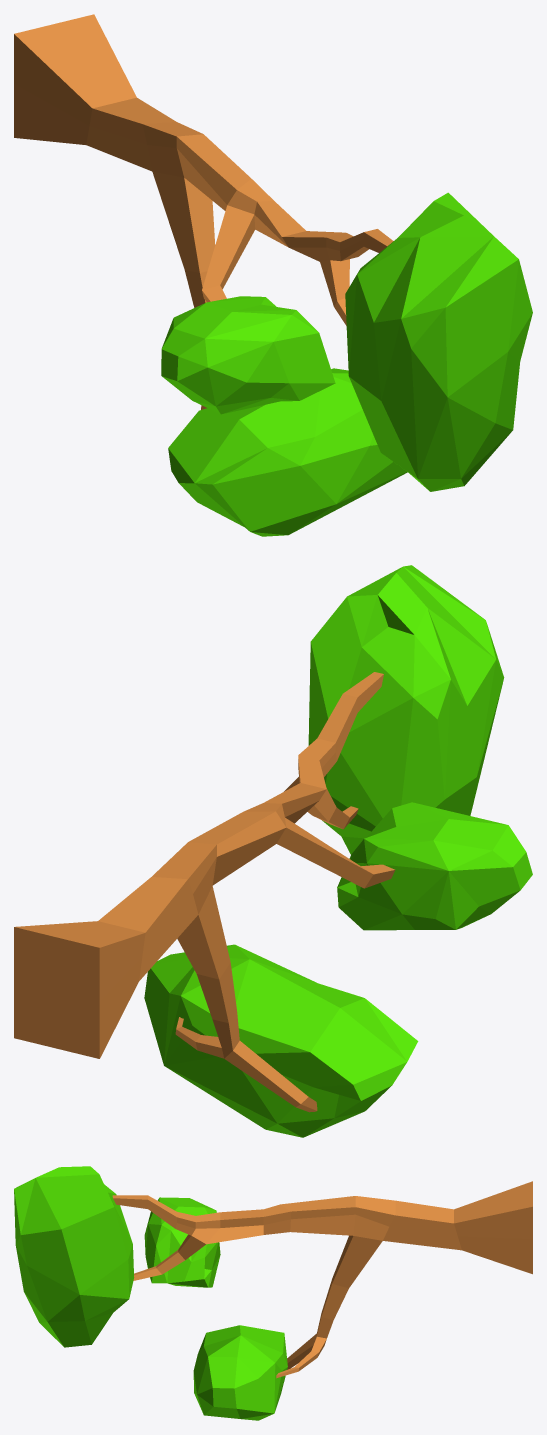
The model's file is tree.gltf.
3 views of the same model, one above another, from view 1: azimuth 30°, elevation 25°; view 2: azimuth 150°, elevation 25°; view 3: azimuth 270°, elevation 25° (orthographic). The views are drawn at different scales.
Parts seen in each view (by area): view 1: Tree; view 2: Tree; view 3: Tree.
Boxes of the visible parts, left/top/right/bottom form: Tree: left=14, top=14, right=532, bottom=536; Tree: left=14, top=565, right=532, bottom=1137; Tree: left=14, top=1166, right=532, bottom=1420.
Bounding box in the file's own units: 0.5674 × 0.6921 × 1.27.
